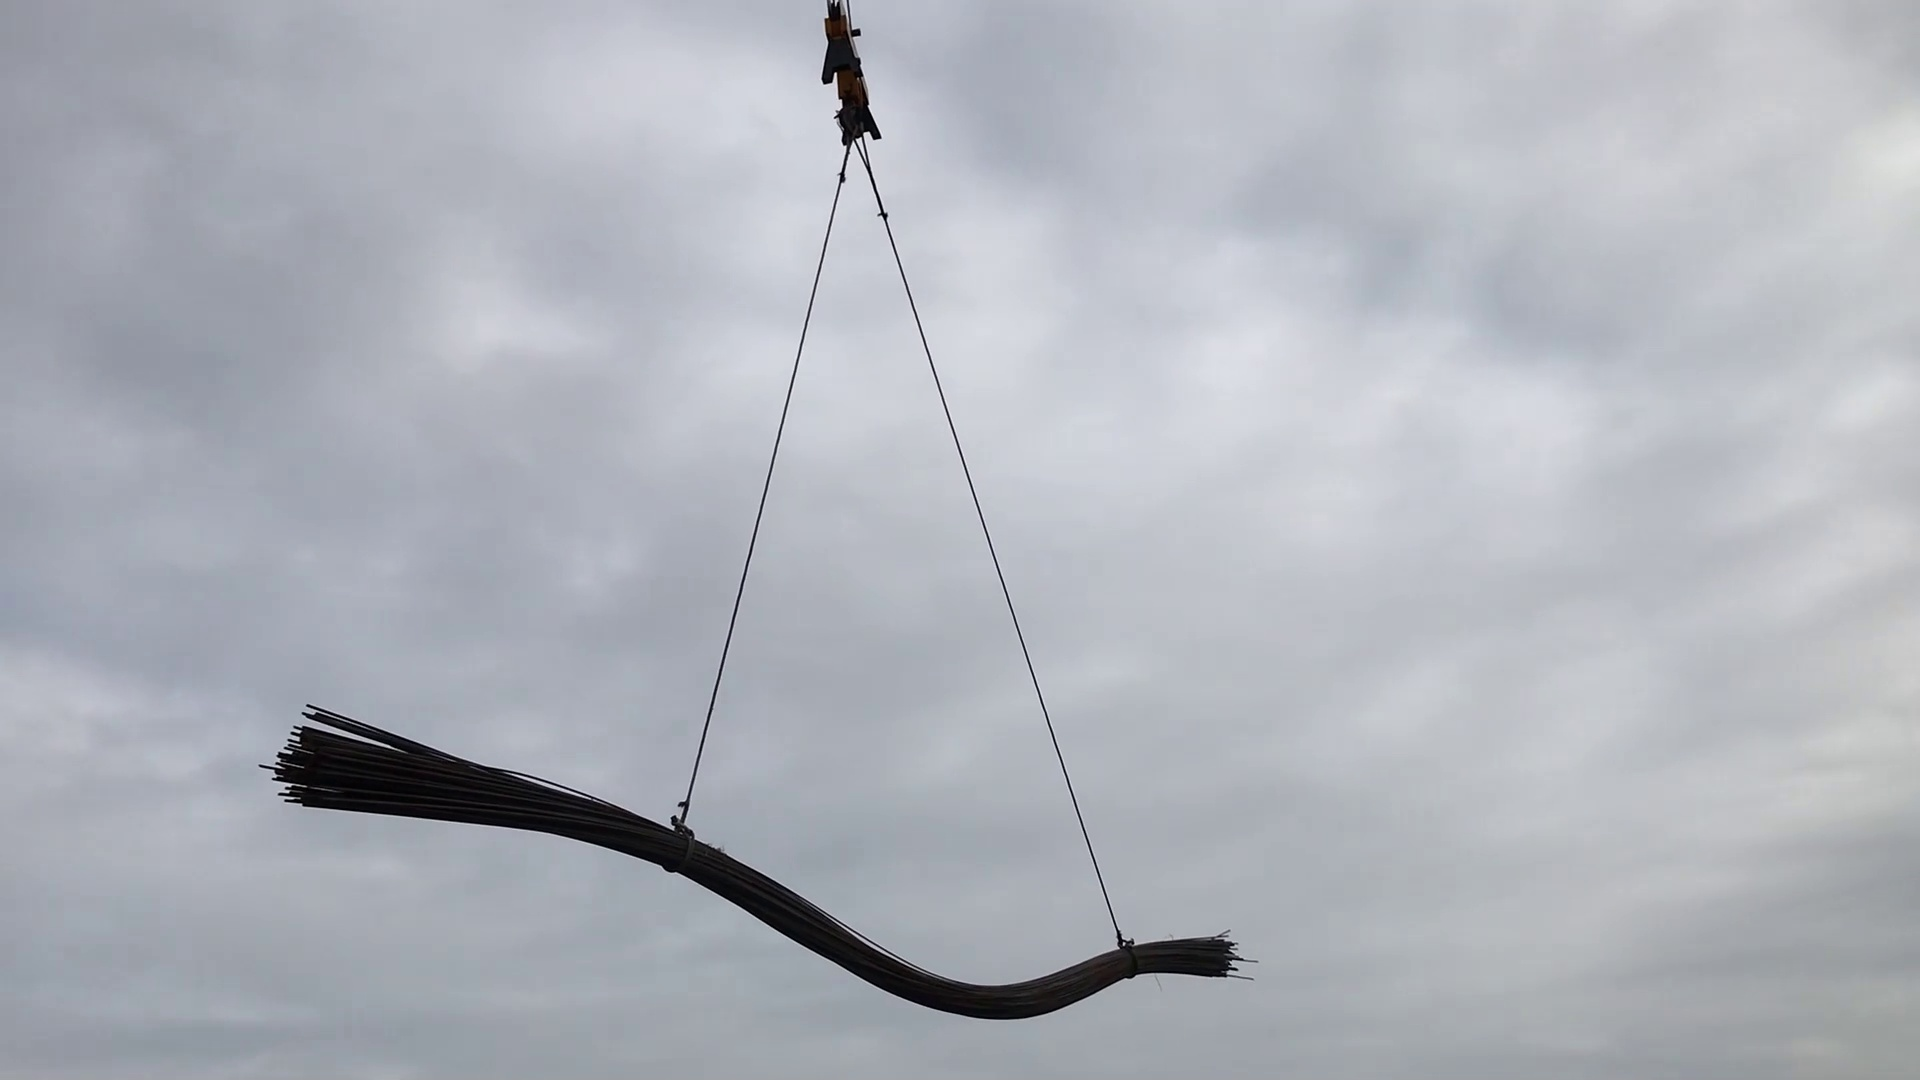hook: (824, 1, 894, 141)
rebar: (274, 694, 646, 856), (874, 895, 1232, 1026)
